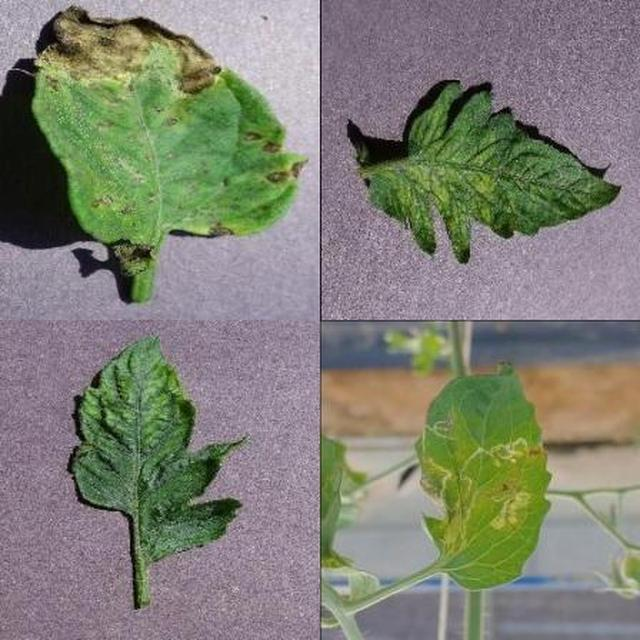Septoria Leaf: (200, 179, 640, 640)
